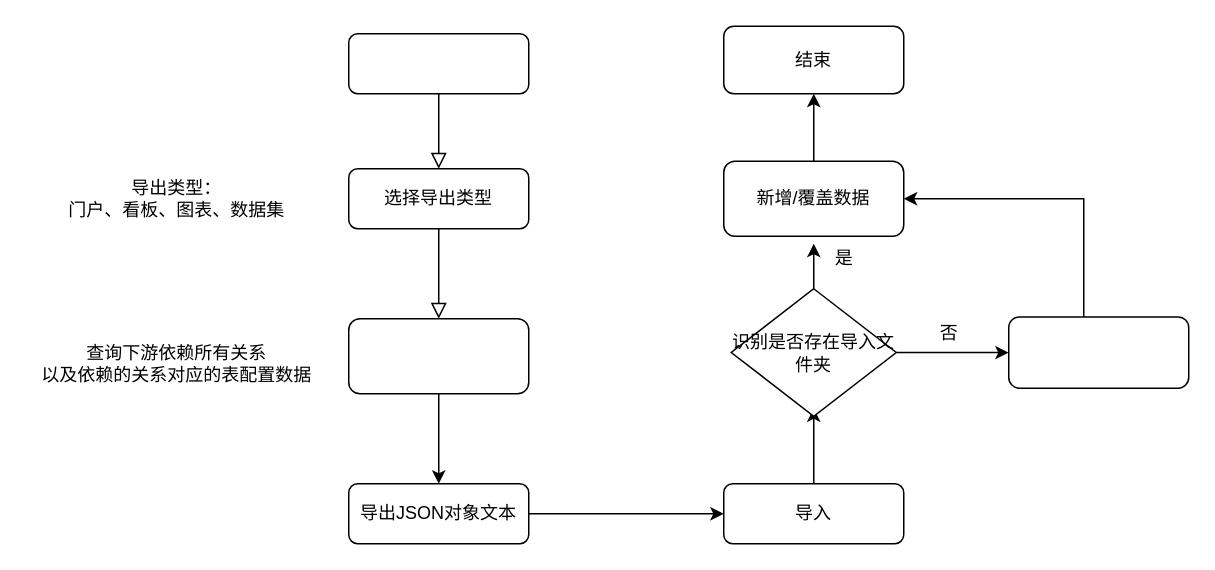
The diagram is 1215 pixels wide and 570 high, and some of its shapes have lost their labels. The shapes that lost their labels are listed below. From the top down, each one's box as (x1, y1, x2, y2) in pixels, then its label:
(347, 32, 529, 94): 导出
(347, 317, 529, 394): 查询导出对象所依赖的下游对象
(1007, 315, 1189, 388): 创建导入文件夹
